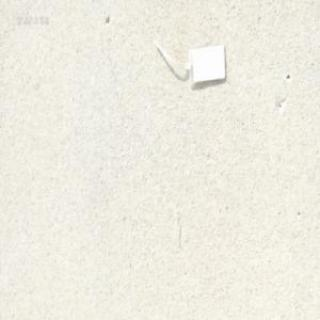LuggageTagtrack_idkeyframe: (150, 38, 228, 87)
